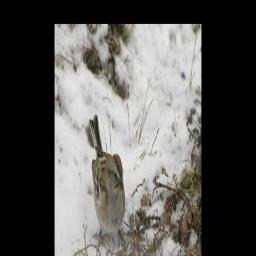Sparrow: (86, 111, 128, 250)
